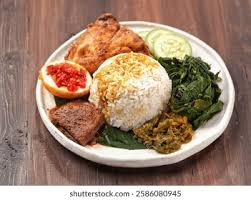Nasi padang: (40, 12, 223, 157)
